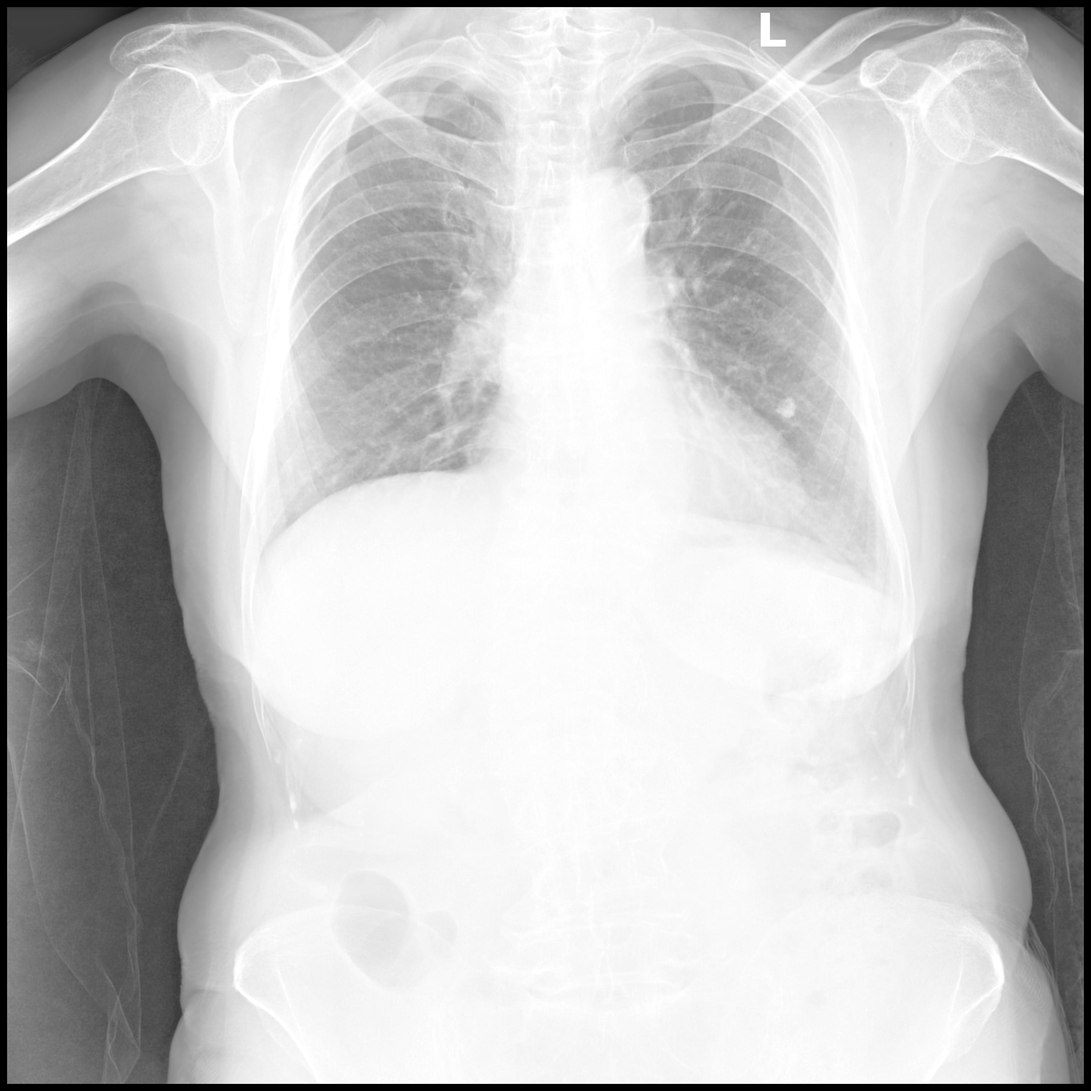Pleural thickening: (371, 60, 483, 88)
